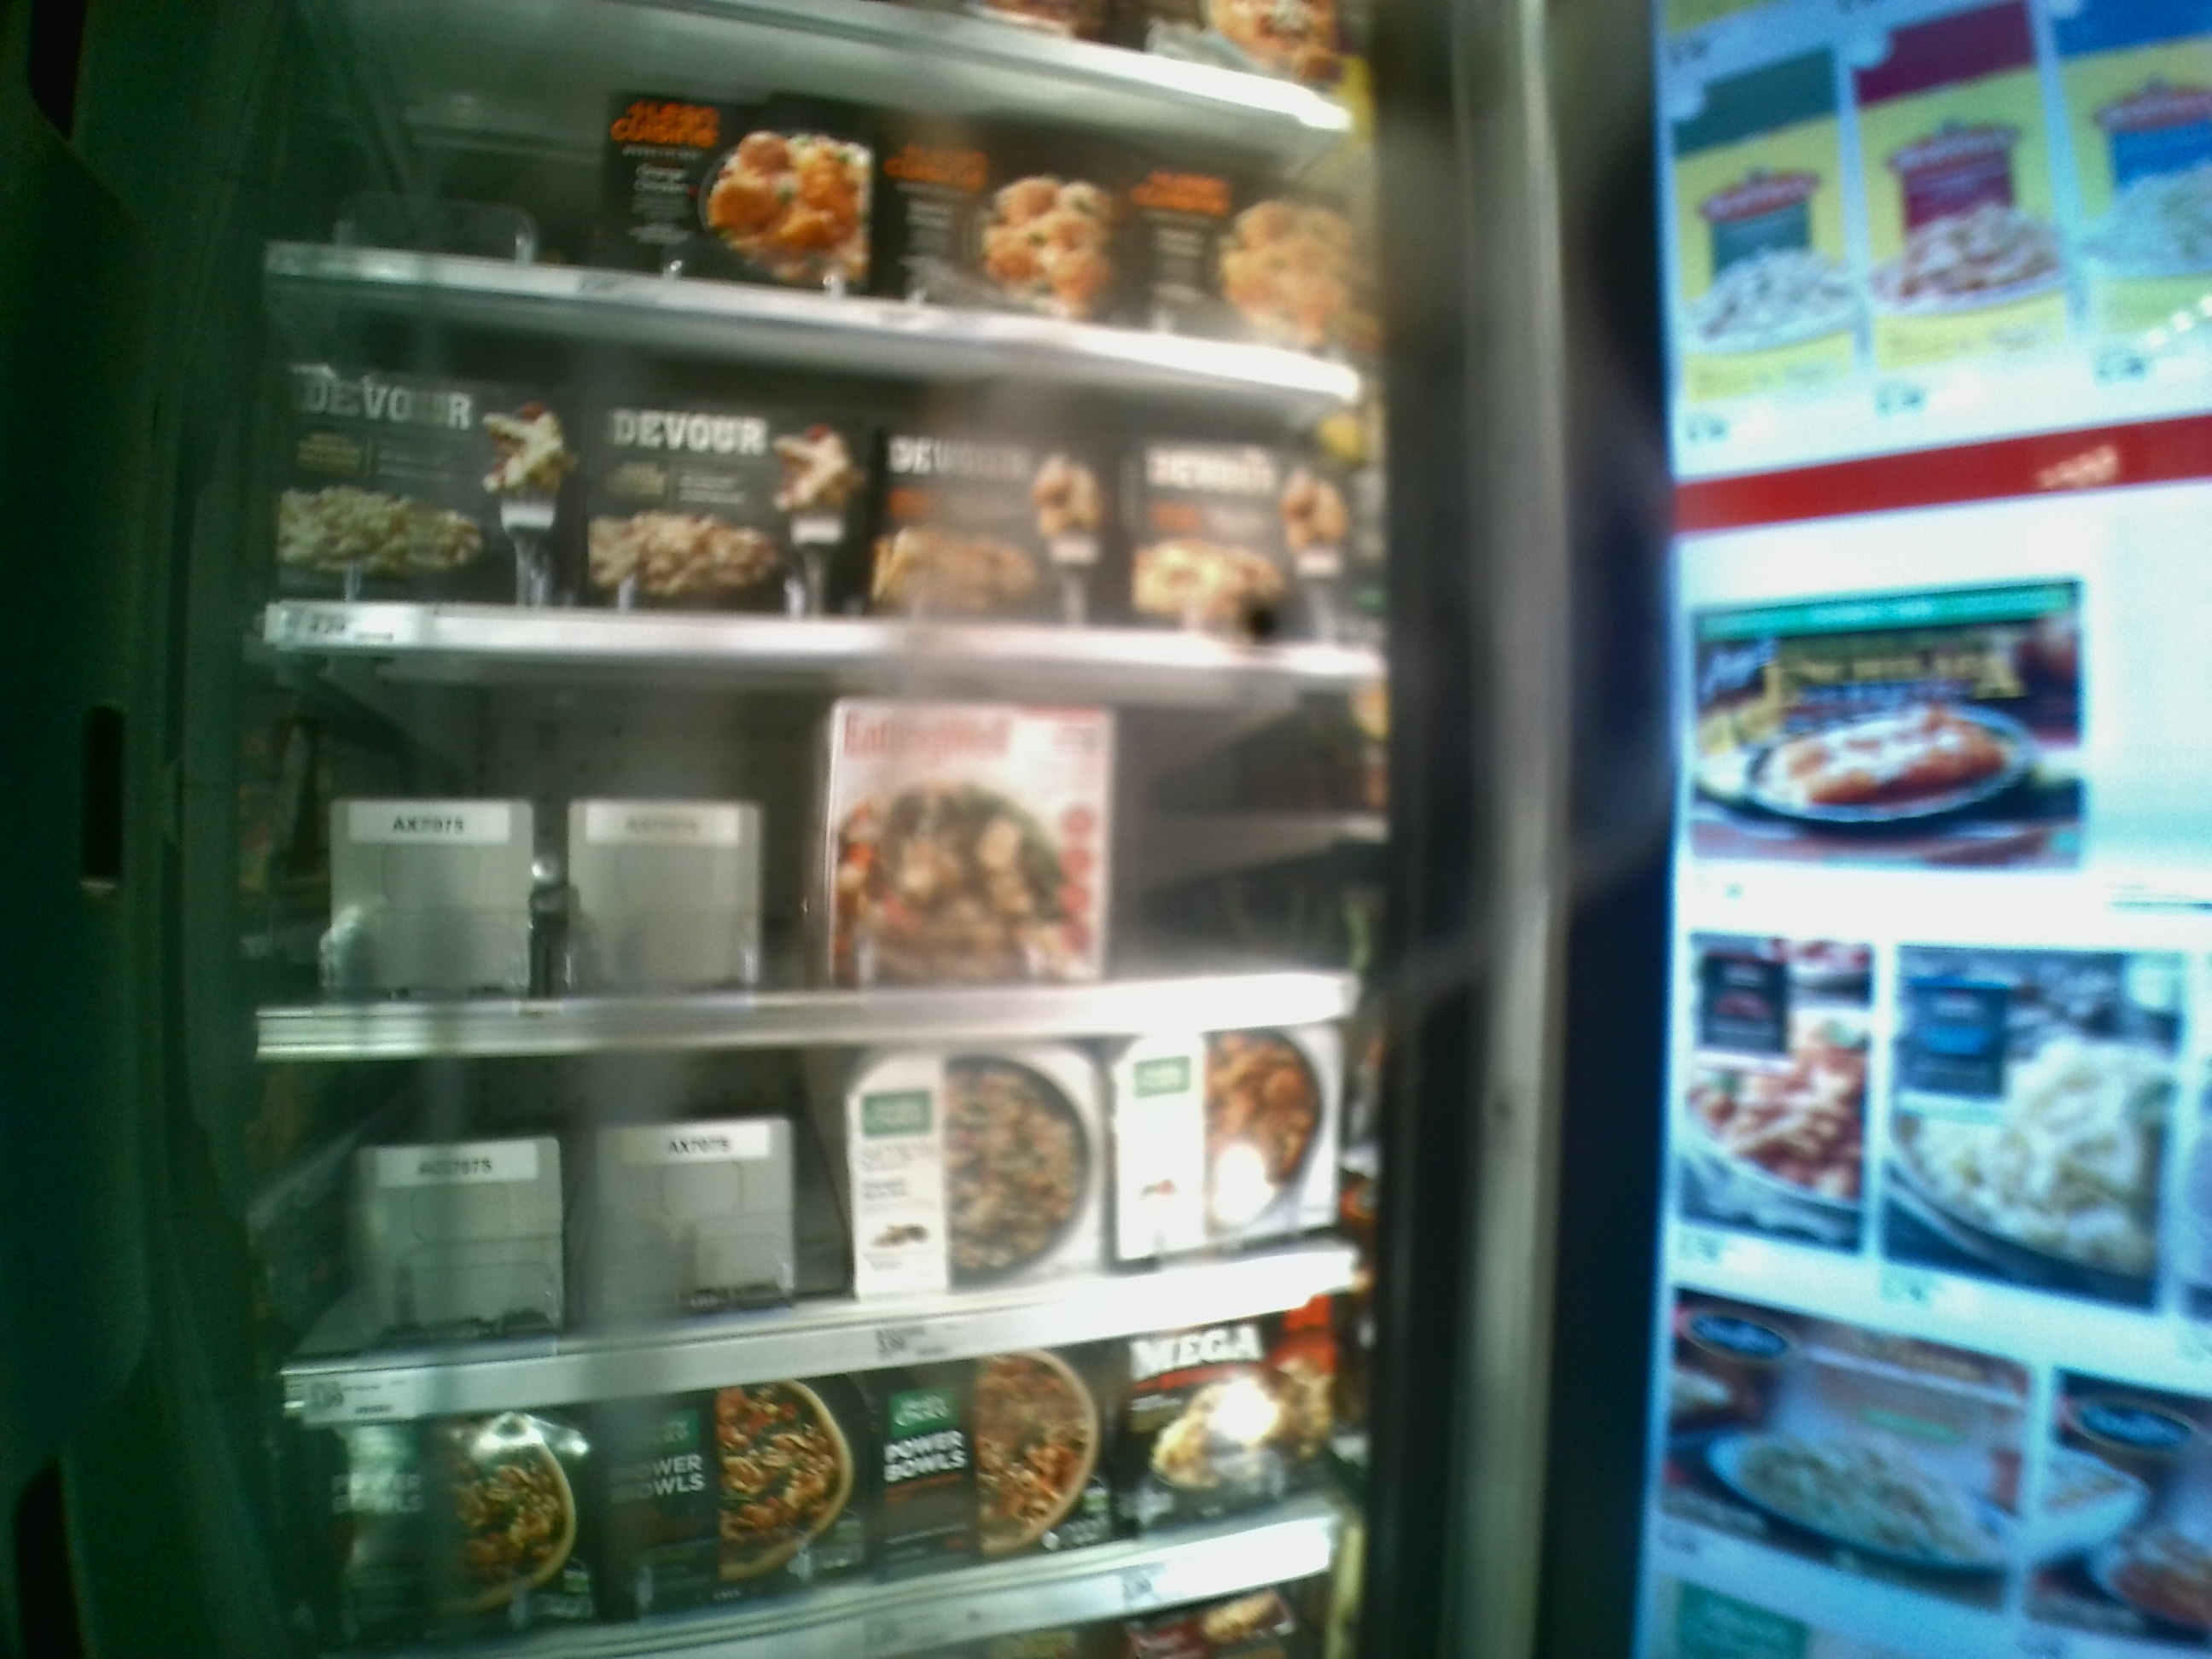Shelf: (251, 275, 1378, 678), (249, 648, 1366, 1044)
